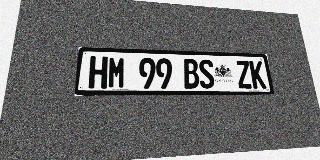9: (139, 58, 156, 88), (156, 58, 173, 88)
B: (183, 59, 200, 88)
H: (88, 56, 108, 89)
K: (249, 61, 266, 88)
M: (107, 57, 126, 89)
S: (198, 59, 215, 88)
Z: (235, 60, 253, 88)
